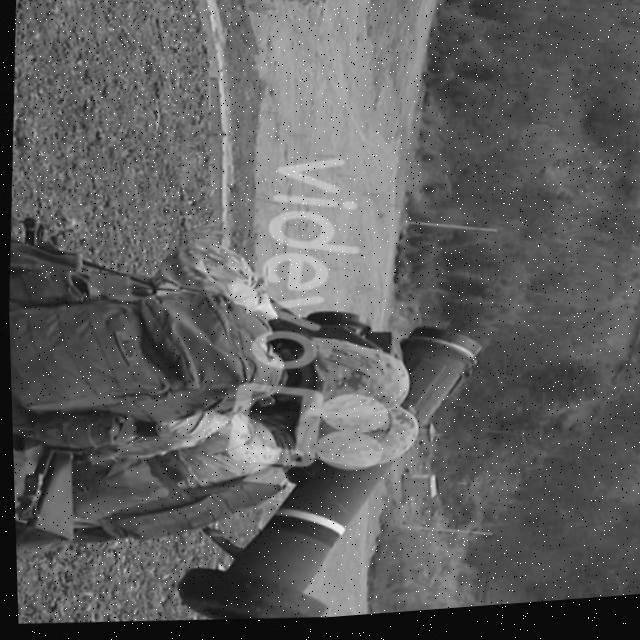rocket: (165, 298, 489, 631)
